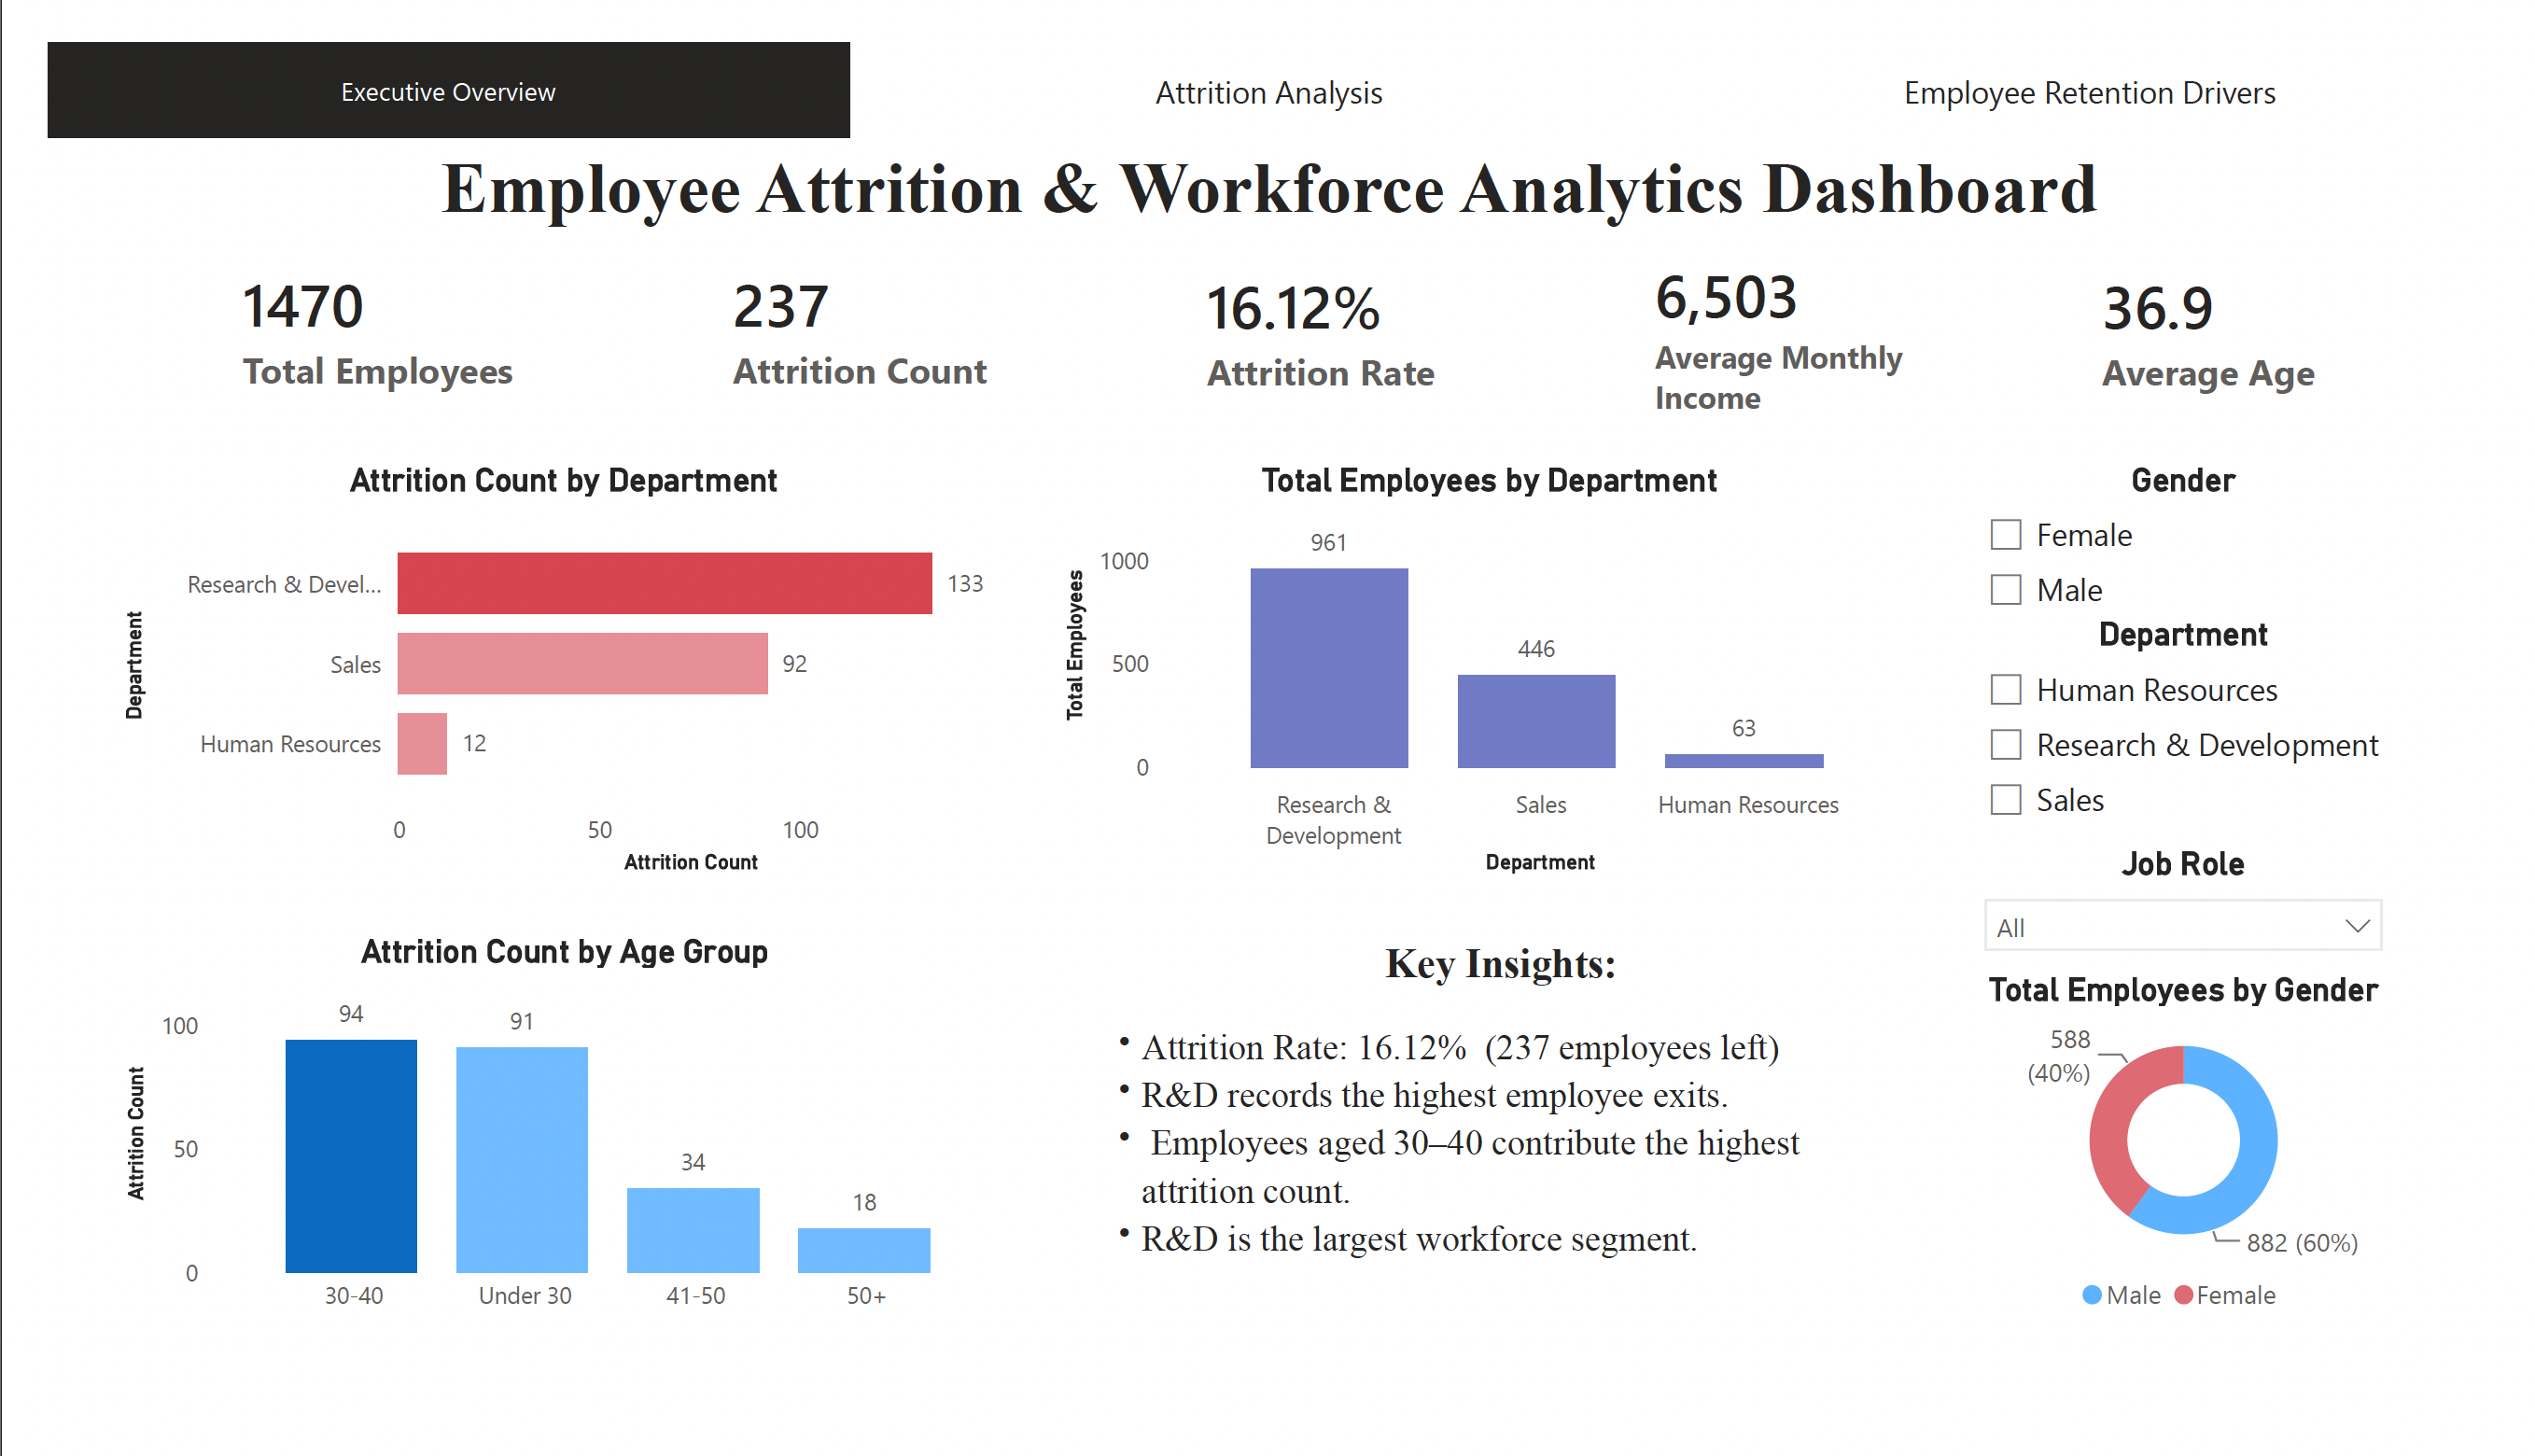

This screenshot's page, from the dashboard's own definition file:
{"tool":"powerbi","page":{"name":"Executive Overview","canvas":[1280,720],"ordinal":0},"visuals":[{"type":"cardVisual","title":"Total Employees","fields":{"Data":["WA_Fn-UseC_-HR-Employee-Attrition.Total Employees"]},"box":[73.2,81.7,228.1,136.9],"z":0},{"type":"cardVisual","fields":{"Data":["WA_Fn-UseC_-HR-Employee-Attrition.Attrition Count"]},"box":[330.2,81.7,235.3,136.9],"z":1000},{"type":"cardVisual","fields":{"Data":["WA_Fn-UseC_-HR-Employee-Attrition.Attrition Rate"]},"box":[577.6,81.7,257,138.1],"z":2000},{"type":"cardVisual","fields":{"Data":["WA_Fn-UseC_-HR-Employee-Attrition.Average Age"]},"box":[1047.1,81.7,177.7,139.3],"z":3000},{"type":"cardVisual","fields":{"Data":["WA_Fn-UseC_-HR-Employee-Attrition.Average Monthly Income"]},"box":[812.9,81.7,212.5,142.9],"z":4000},{"type":"clusteredBarChart","fields":{"Category":["WA_Fn-UseC_-HR-Employee-Attrition.Department"],"Y":["WA_Fn-UseC_-HR-Employee-Attrition.Attrition Count"]},"box":[34.8,218.5,470.7,222.1],"z":5000},{"type":"clusteredColumnChart","fields":{"Category":["WA_Fn-UseC_-HR-Employee-Attrition.Department"],"Y":["WA_Fn-UseC_-HR-Employee-Attrition.Total Employees"]},"box":[528.3,218.5,455.1,222.1],"z":6000},{"type":"donutChart","fields":{"Category":["WA_Fn-UseC_-HR-Employee-Attrition.Gender"],"Y":["WA_Fn-UseC_-HR-Employee-Attrition.Total Employees"]},"box":[1005,486.3,228.1,188.5],"z":7000},{"type":"clusteredColumnChart","fields":{"Category":["WA_Fn-UseC_-HR-Employee-Attrition.Age Group"],"Y":["WA_Fn-UseC_-HR-Employee-Attrition.Attrition Count"]},"box":[36,465.9,469.5,208.9],"z":8000},{"type":"textbox","box":[540.3,465.9,443.1,198.1],"z":9000},{"type":"slicer","title":"Gender","fields":{"Values":["WA_Fn-UseC_-HR-Employee-Attrition.Gender"]},"box":[1005,218.5,228.1,92.5],"z":10000},{"type":"slicer","title":"Department","fields":{"Values":["WA_Fn-UseC_-HR-Employee-Attrition.Department"]},"box":[1005,300.2,228.1,120.1],"z":11000},{"type":"slicer","title":"Job Role","fields":{"Values":["WA_Fn-UseC_-HR-Employee-Attrition.JobRole"]},"box":[1005,420.3,228.1,66],"z":12000},{"type":"pageNavigator","box":[0,0,1280,50],"z":13000},{"type":"textbox","box":[0,50,1280.2,66.3],"z":14000}]}

Visuals, with their boxes in screenshot pixels (x1, y1, x2, y2), scaled from the page's 1280x720 canvas onto the 2535x1456 screenshot:
"Total Employees" cardVisual: [left=145, top=165, right=596, bottom=442]
cardVisual - WA_Fn-UseC_-HR-Employee-Attrition.Attrition Count: [left=654, top=165, right=1120, bottom=442]
cardVisual - WA_Fn-UseC_-HR-Employee-Attrition.Attrition Rate: [left=1144, top=165, right=1653, bottom=444]
cardVisual - WA_Fn-UseC_-HR-Employee-Attrition.Average Age: [left=2074, top=165, right=2426, bottom=447]
cardVisual - WA_Fn-UseC_-HR-Employee-Attrition.Average Monthly Income: [left=1610, top=165, right=2031, bottom=455]
clusteredBarChart - WA_Fn-UseC_-HR-Employee-Attrition.Department x WA_Fn-UseC_-HR-Employee-Attrition.Attrition Count: [left=69, top=441, right=1001, bottom=891]
clusteredColumnChart - WA_Fn-UseC_-HR-Employee-Attrition.Department x WA_Fn-UseC_-HR-Employee-Attrition.Total Employees: [left=1046, top=441, right=1948, bottom=891]
donutChart - WA_Fn-UseC_-HR-Employee-Attrition.Gender x WA_Fn-UseC_-HR-Employee-Attrition.Total Employees: [left=1990, top=984, right=2442, bottom=1365]
clusteredColumnChart - WA_Fn-UseC_-HR-Employee-Attrition.Age Group x WA_Fn-UseC_-HR-Employee-Attrition.Attrition Count: [left=71, top=942, right=1001, bottom=1365]
textbox: [left=1070, top=942, right=1948, bottom=1343]
"Gender" slicer: [left=1990, top=441, right=2442, bottom=629]
"Department" slicer: [left=1990, top=607, right=2442, bottom=850]
"Job Role" slicer: [left=1990, top=850, right=2442, bottom=984]
pageNavigator: [left=0, top=0, right=2534, bottom=101]
textbox: [left=0, top=101, right=2534, bottom=235]
